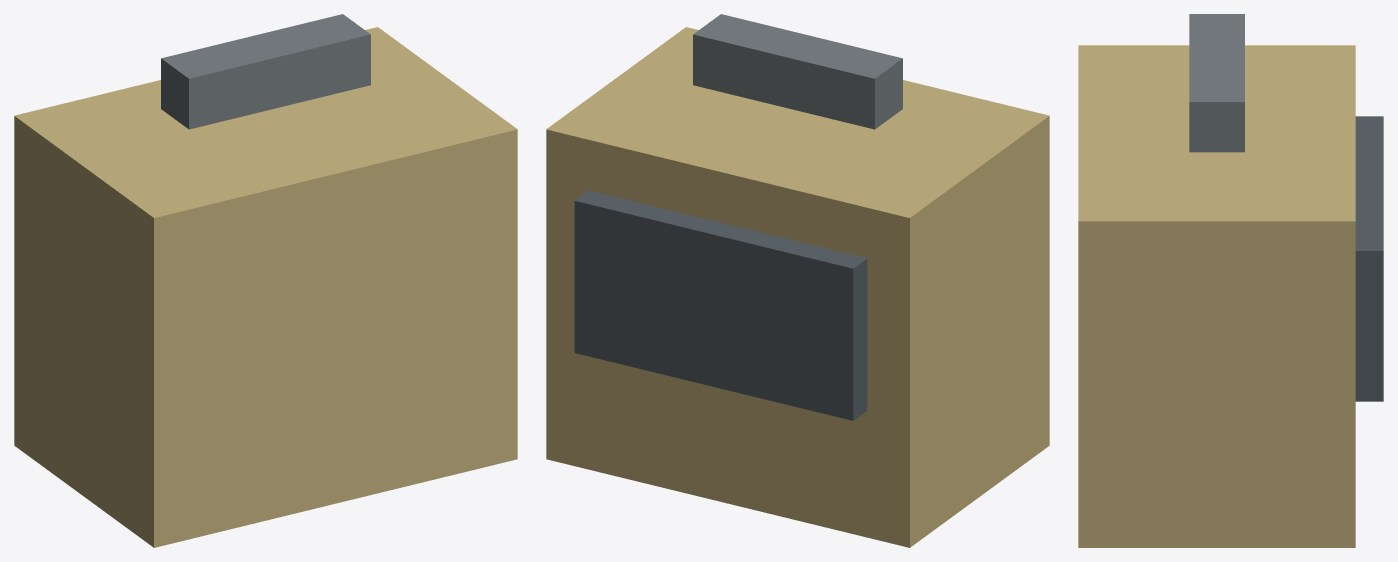
The model's file is car_battery_charger.glb.
The picture shows the model from 3 angles, left to right: view 1: azimuth 30°, elevation 25°; view 2: azimuth 150°, elevation 25°; view 3: azimuth 270°, elevation 25°; orthographic projection.
Visible parts, largest first — view 1: body; view 2: body; view 3: body.
Boxes of the visible parts, x1=… form: body: x1=14, y1=14, x2=517, y2=547; body: x1=546, y1=14, x2=1049, y2=547; body: x1=1078, y1=14, x2=1383, y2=547.
Bounding box in the file's own units: 0.3 × 0.32 × 0.22.
